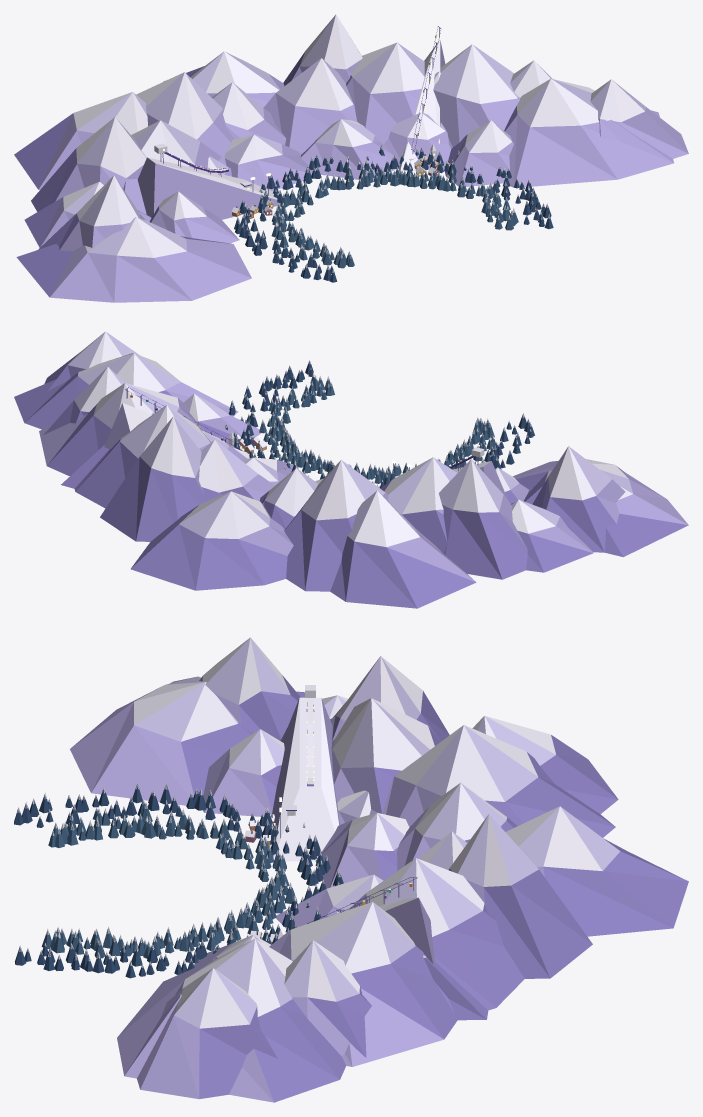
The model's file is ws-far.glb.
The picture shows the model from 3 angles, top to bottom: view 1: azimuth 30°, elevation 25°; view 2: azimuth 150°, elevation 25°; view 3: azimuth 270°, elevation 25°; orthographic projection. The views are drawn at different scales.
Visible parts, largest first — view 1: Mountains, Forest, SkiJump, Chairlift, Village; view 2: Mountains, Forest, Chairlift, SkiJump; view 3: Mountains, Forest, SkiJump, Chairlift.
Boxes of the visible parts, box(x1,y1,x2,y2) form: Mountains: box(14, 14, 688, 302); Forest: box(234, 145, 553, 282); SkiJump: box(137, 143, 280, 219); Chairlift: box(399, 26, 445, 172); Village: box(231, 144, 450, 218); Mountains: box(14, 331, 688, 608); Forest: box(225, 360, 534, 487); Chairlift: box(104, 387, 257, 458); SkiJump: box(378, 447, 508, 500); Mountains: box(70, 637, 688, 1102); Forest: box(14, 783, 343, 978); SkiJump: box(272, 685, 340, 861); Chairlift: box(307, 877, 434, 964).
Size of the model in its own units: 735 by 107 by 498.
